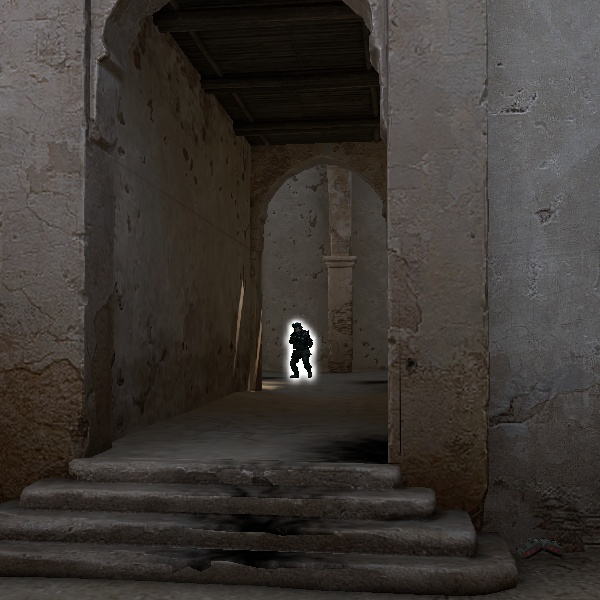ct_body: (284, 320, 317, 380)
ct_head: (291, 321, 305, 336)
